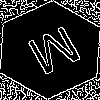M: (25, 25, 89, 84)
